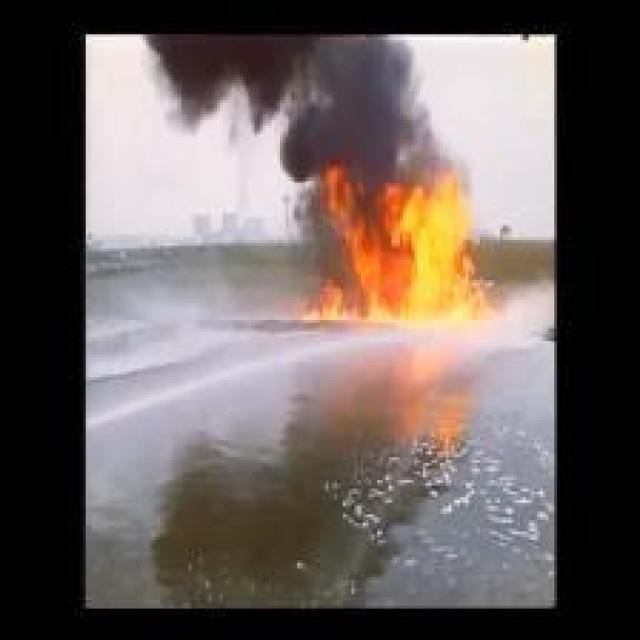fire: (308, 155, 485, 330)
smoke: (145, 34, 444, 161)
